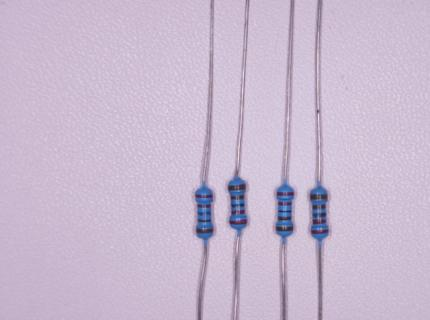Black band: (197, 211, 211, 216), (313, 213, 326, 218), (231, 203, 245, 207), (277, 210, 292, 212)
Brown band: (228, 184, 245, 190), (311, 194, 328, 199), (312, 204, 326, 210), (196, 229, 213, 233), (276, 227, 293, 231), (231, 195, 244, 199), (278, 217, 291, 221), (197, 219, 212, 222)
Red band: (231, 218, 247, 224), (277, 192, 294, 196), (312, 230, 329, 234), (313, 219, 326, 224), (195, 195, 213, 198), (232, 210, 245, 214), (198, 205, 210, 208), (279, 202, 291, 205)
